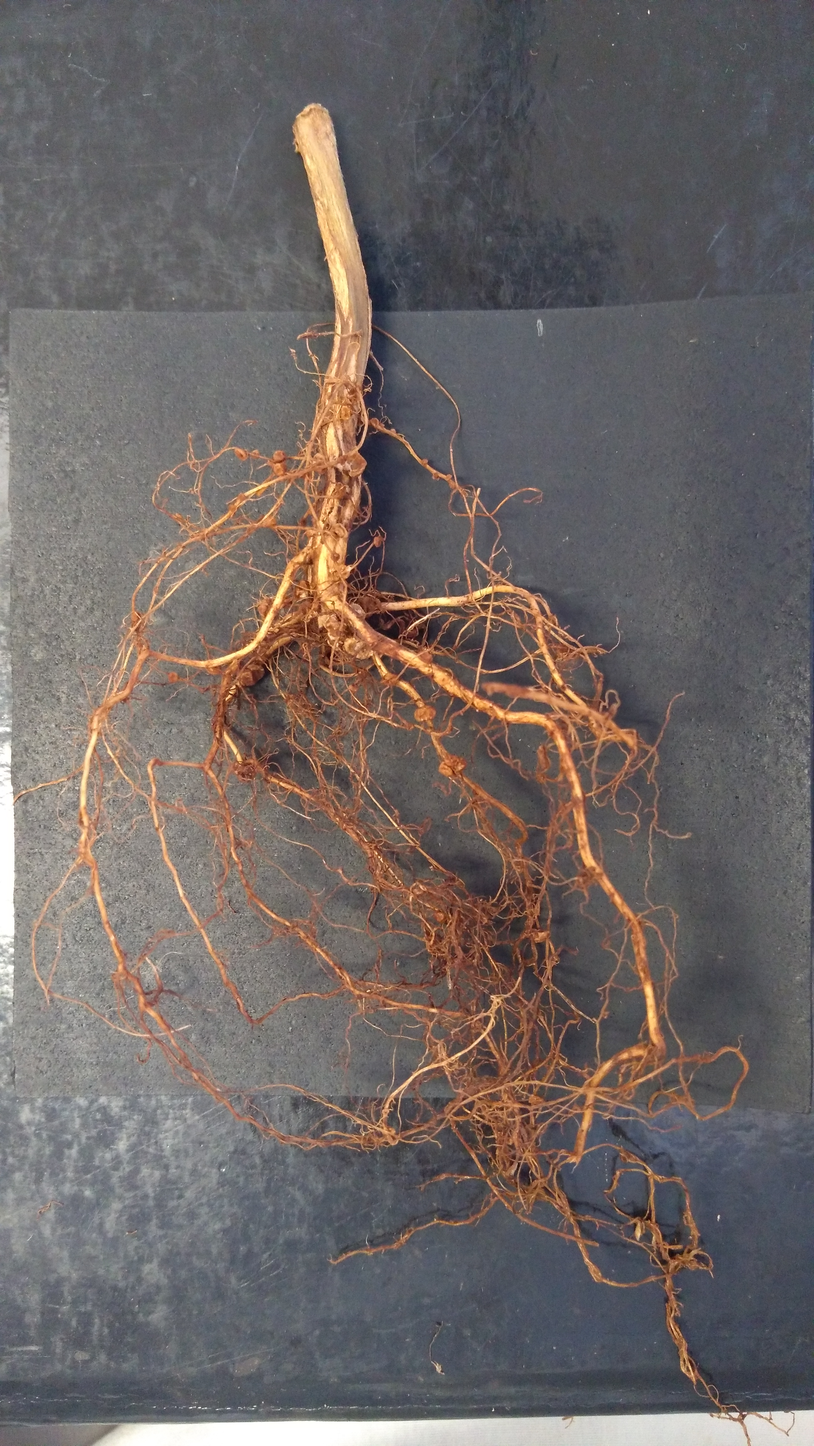nodule: (322, 613, 351, 641), (342, 637, 375, 661), (238, 663, 265, 688), (344, 449, 368, 477), (256, 596, 275, 618), (554, 642, 578, 659), (292, 579, 311, 600), (356, 594, 377, 613), (414, 705, 437, 722), (236, 764, 258, 781), (311, 453, 328, 474), (437, 761, 458, 778), (349, 601, 367, 619), (532, 929, 552, 944), (536, 744, 548, 769), (314, 410, 331, 426), (317, 613, 331, 632), (381, 672, 400, 686), (330, 483, 346, 499), (273, 462, 288, 478), (634, 1221, 646, 1240), (346, 385, 360, 401), (337, 563, 350, 580), (205, 663, 223, 675), (444, 754, 459, 768), (261, 516, 278, 528), (454, 759, 468, 773), (272, 449, 287, 462), (340, 405, 352, 421), (325, 391, 339, 404), (419, 650, 433, 663), (235, 448, 247, 461), (434, 911, 447, 923), (528, 1094, 543, 1104), (167, 671, 178, 684), (334, 526, 345, 538), (130, 611, 141, 622), (330, 552, 341, 563), (250, 449, 260, 461), (369, 417, 379, 429), (347, 682, 359, 692), (411, 888, 425, 896), (373, 536, 382, 548), (383, 1125, 395, 1134), (381, 1108, 390, 1117), (238, 493, 248, 501), (308, 507, 317, 515), (227, 504, 237, 511), (389, 427, 397, 435), (449, 480, 456, 489), (379, 421, 386, 429), (421, 458, 428, 466), (445, 473, 452, 481), (432, 473, 439, 479)
